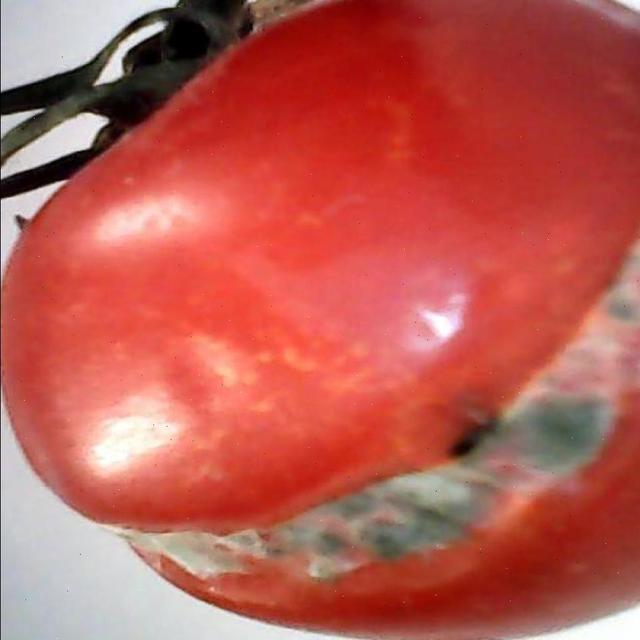Cracking Fruit: (33, 116, 427, 405)
